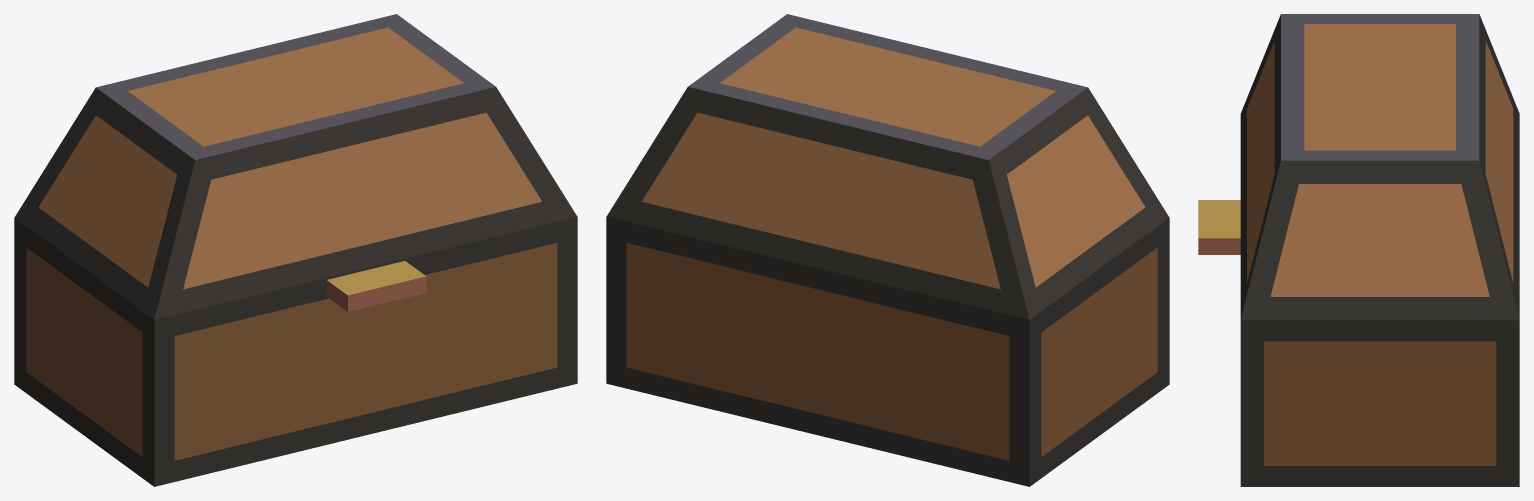
The model's file is TB_D_Prop_ChestA_B.FBX.
The picture shows the model from 3 angles, left to right: view 1: azimuth 30°, elevation 25°; view 2: azimuth 150°, elevation 25°; view 3: azimuth 270°, elevation 25°; orthographic projection.
Visible parts, largest first — view 1: TB_D_Prop_ChestA_B; view 2: TB_D_Prop_ChestA_B; view 3: TB_D_Prop_ChestA_B.
Boxes of the visible parts, box(x1,y1,x2,y2) form: TB_D_Prop_ChestA_B: box(14, 14, 577, 486); TB_D_Prop_ChestA_B: box(606, 14, 1169, 486); TB_D_Prop_ChestA_B: box(1198, 14, 1519, 486).
Bounding box in the file's own units: 1.05 × 0.7016 × 0.6895.
